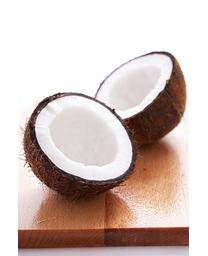coconut: (23, 92, 138, 203), (94, 51, 187, 148)
